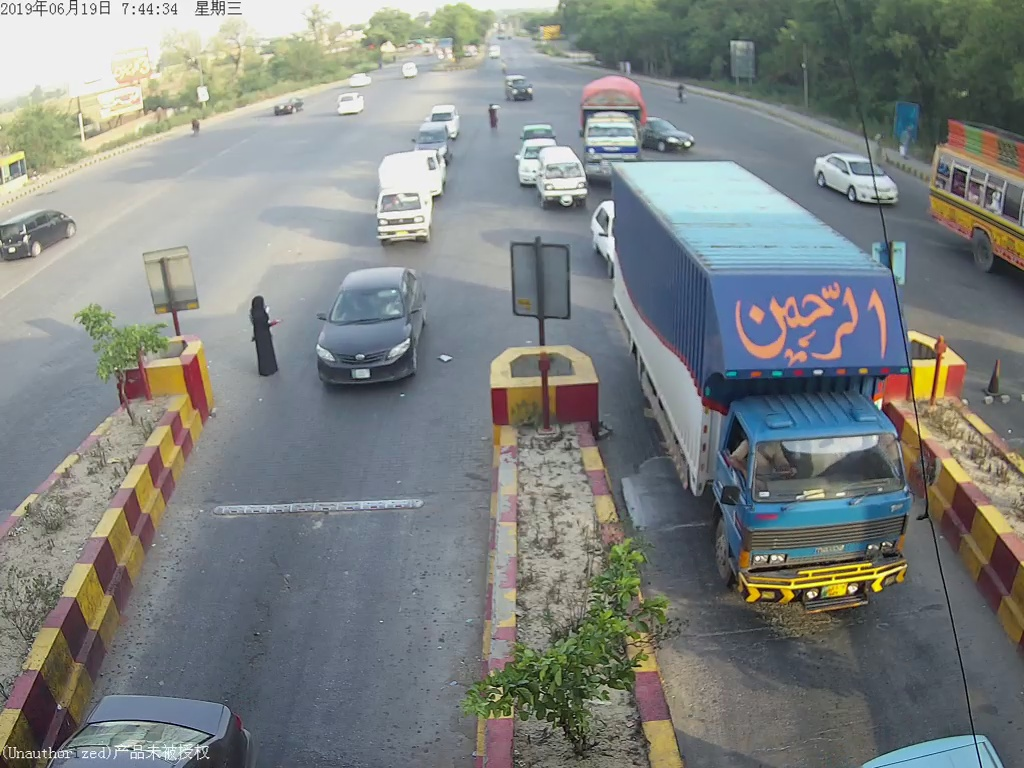Cat-1: (309, 266, 451, 400), (370, 158, 438, 242), (543, 154, 590, 207), (414, 120, 448, 153)
Cat-2: (613, 156, 926, 620)
